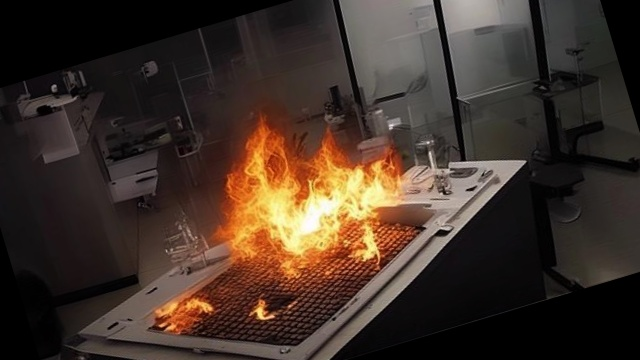fire: (118, 92, 433, 333)
